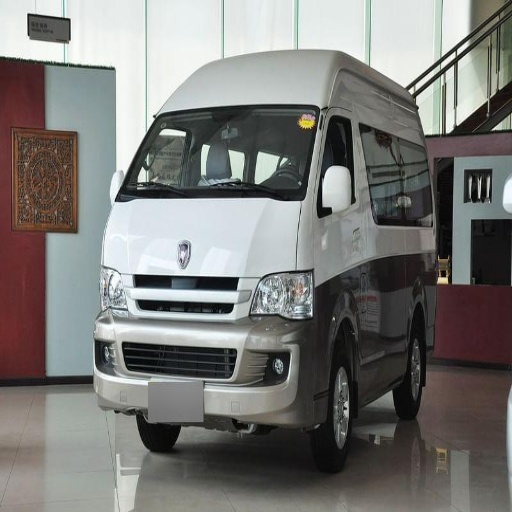back_glass: (139, 108, 253, 190)
front_bumper: (94, 271, 326, 429)
front_glass: (217, 110, 314, 199)
front_left_door: (315, 99, 362, 241), (358, 272, 391, 373)
trunk: (155, 199, 207, 249)
